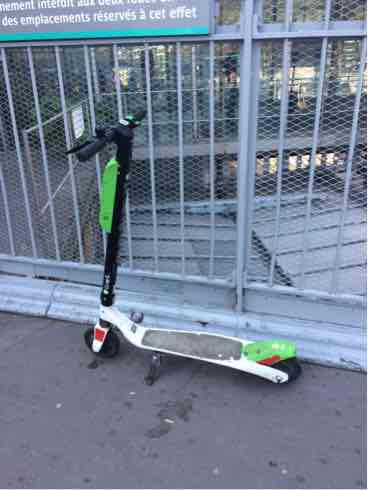scooter: (57, 111, 306, 389)
